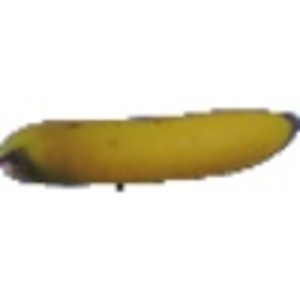banana: (1, 104, 296, 188)
